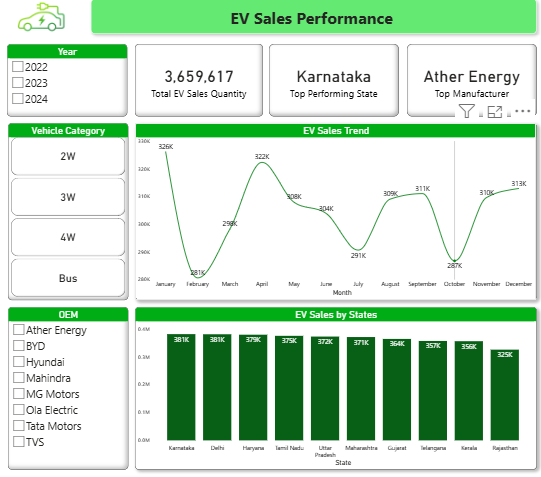

The dashboard page shown, as its layout file describes it:
{"tool":"powerbi","page":{"name":"EV Sales Performance","canvas":[2000,1800],"ordinal":0},"visuals":[{"type":"textbox","box":[340,16.7,1630,126.7],"z":0},{"type":"card","fields":{"Values":["Sum(EV_Sales_Data.EV_Sales_Quantity)"]},"box":[500,182.5,467.5,265],"z":1000},{"type":"card","fields":{"Values":["Min(EV_Sales_Data.State)"]},"box":[992.5,182.5,475,265],"z":2000},{"type":"card","fields":{"Values":["Min(EV_Sales_Data.Manufacturer)"]},"box":[1495,182.5,475,265],"z":3000},{"type":"advancedSlicerVisual","title":"Vehicle Category","fields":{"Values":["EV_Sales_Data.Vehicle_Category"]},"box":[35,472.5,440,647.5],"z":4000},{"type":"slicer","title":"Year","fields":{"Values":["EV_Sales_Data.Year"]},"box":[34.2,181.7,440,265],"z":5000},{"type":"lineChart","title":"EV Sales Trend","fields":{"Category":["EV_Sales_Data.Year","EV_Sales_Data.Month"],"Y":["Sum(EV_Sales_Data.EV_Sales_Quantity)"]},"box":[500,473.3,1470,646.7],"z":6000},{"type":"clusteredColumnChart","title":"EV Sales by States","fields":{"Category":["EV_Sales_Data.State"],"Y":["Sum(EV_Sales_Data.EV_Sales_Quantity)"]},"box":[500,1145,1470,595],"z":8000},{"type":"image","box":[0,0,316.7,166.7],"z":9000},{"type":"slicer","title":"OEM","fields":{"Values":["EV_Sales_Data.Manufacturer"]},"box":[35,1145,440,595],"z":9001}]}

Visuals, with their boxes in screenshot pixels (x1, y1, x2, y2), scaled from the page's 2000x1800 canvas onto the 541x477 screenshot:
textbox: rect(92, 4, 533, 38)
card - Sum(EV_Sales_Data.EV_Sales_Quantity): rect(135, 48, 262, 119)
card - Min(EV_Sales_Data.State): rect(268, 48, 397, 119)
card - Min(EV_Sales_Data.Manufacturer): rect(404, 48, 533, 119)
"Vehicle Category" advancedSlicerVisual: rect(9, 125, 128, 297)
"Year" slicer: rect(9, 48, 128, 118)
"EV Sales Trend" lineChart: rect(135, 125, 533, 297)
"EV Sales by States" clusteredColumnChart: rect(135, 303, 533, 461)
image: rect(0, 0, 86, 44)
"OEM" slicer: rect(9, 303, 128, 461)
